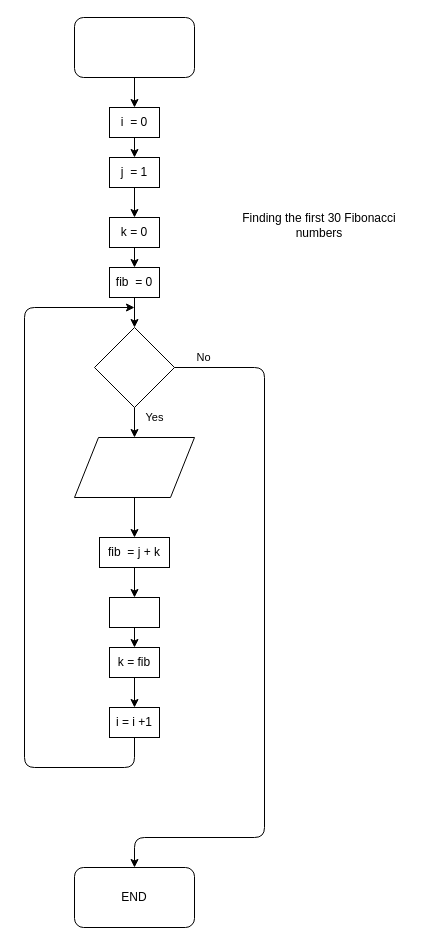
This 432x945 diagram has some shape labels left out. Each missing label, with the box of its shape:
i < 30?: (94, 326, 174, 408)
j = k: (108, 596, 160, 628)
Output fib: (74, 436, 194, 498)
START: (74, 16, 194, 78)
